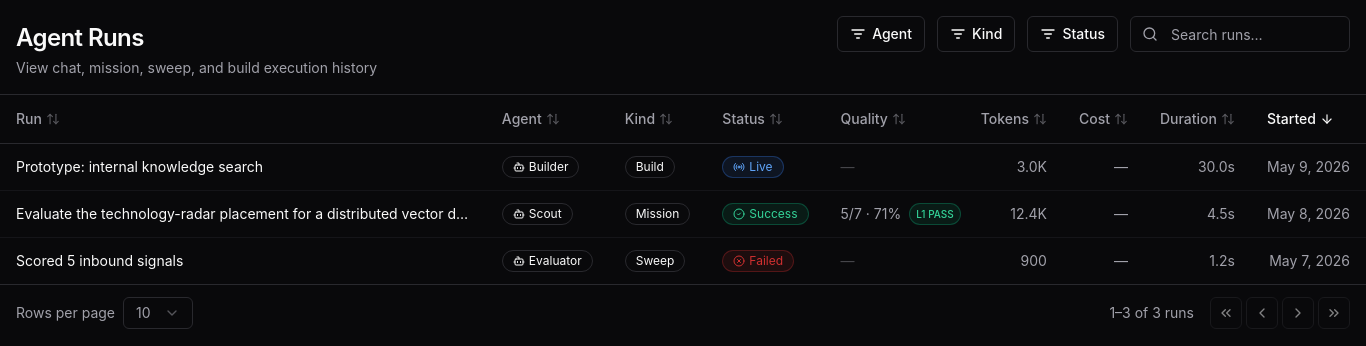
Test: RunsTable › filters rows via the mission-text search box
Step 1. Type "inbound signals" into the search field with test id "runs-search-input" → (1240, 34), box [1130,16,1350,52]
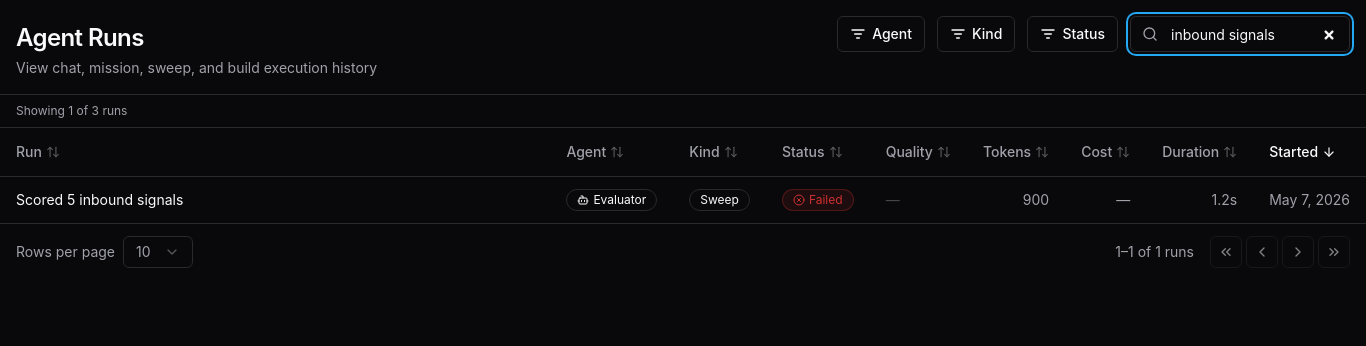
expect the row with test id "run-row-run-sweep-1" is shown: met, box [0,176,1365,222]
expect the row with test id "run-row-run-mission-1" is gone: met
